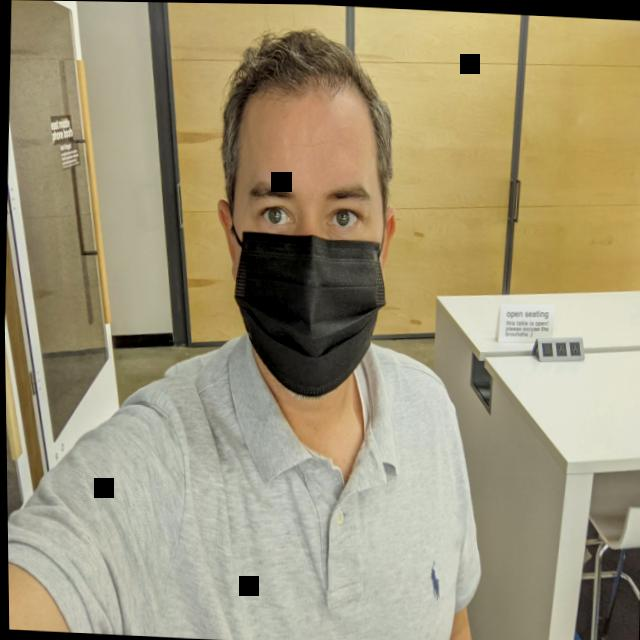Mask: (215, 111, 394, 404)
